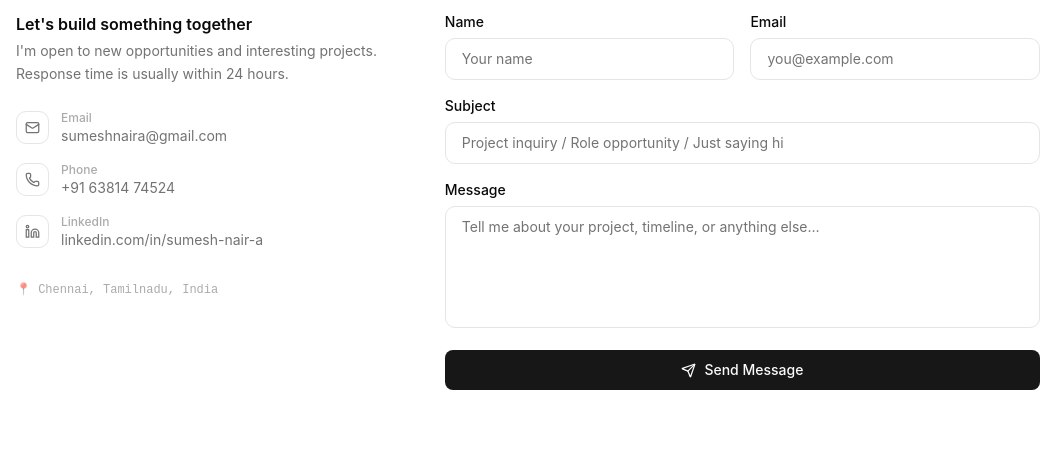
Test: ContactSection › shows validation error for invalid email
In the field labelled "Name": [590, 59] box x1=445 y1=38 x2=734 y2=80, type "Alex"
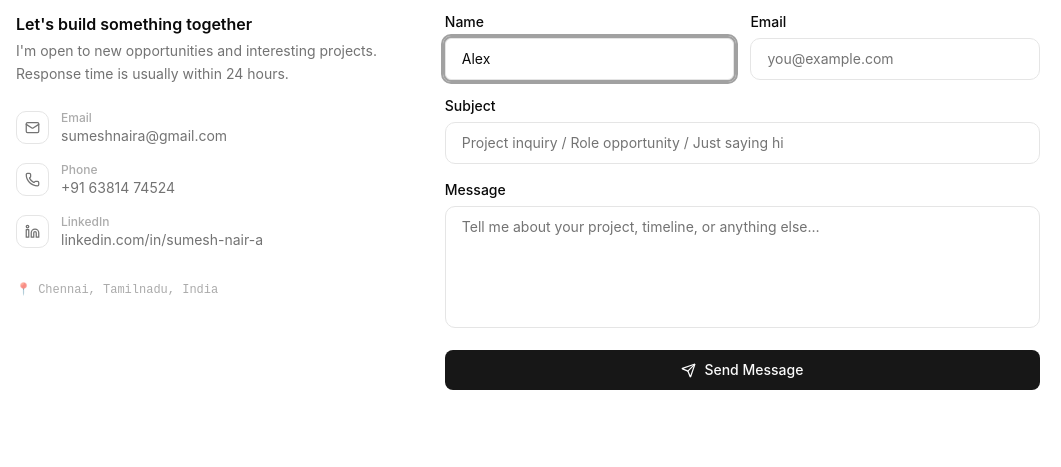
In the field labelled "Email": [895, 59] box x1=750 y1=38 x2=1040 y2=80, type "not-an-email"
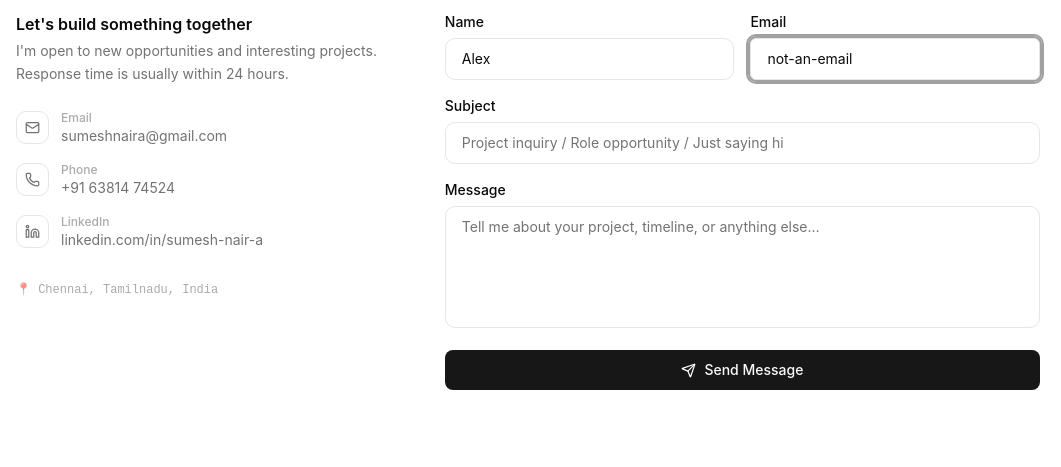
Click the button "Send Message": [742, 370] box x1=445 y1=350 x2=1040 y2=390
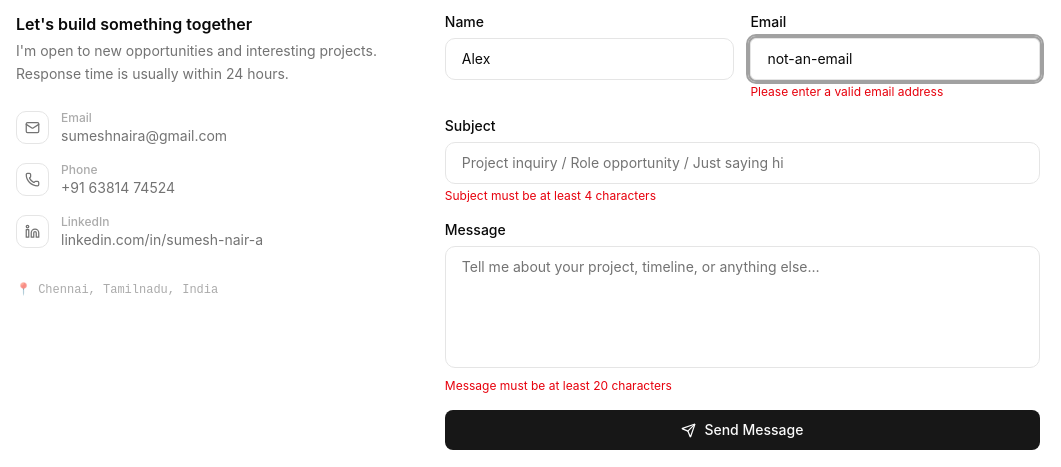
expect the text "Please enter a valid email address" is shown: met, box x1=750 y1=84 x2=943 y2=99
